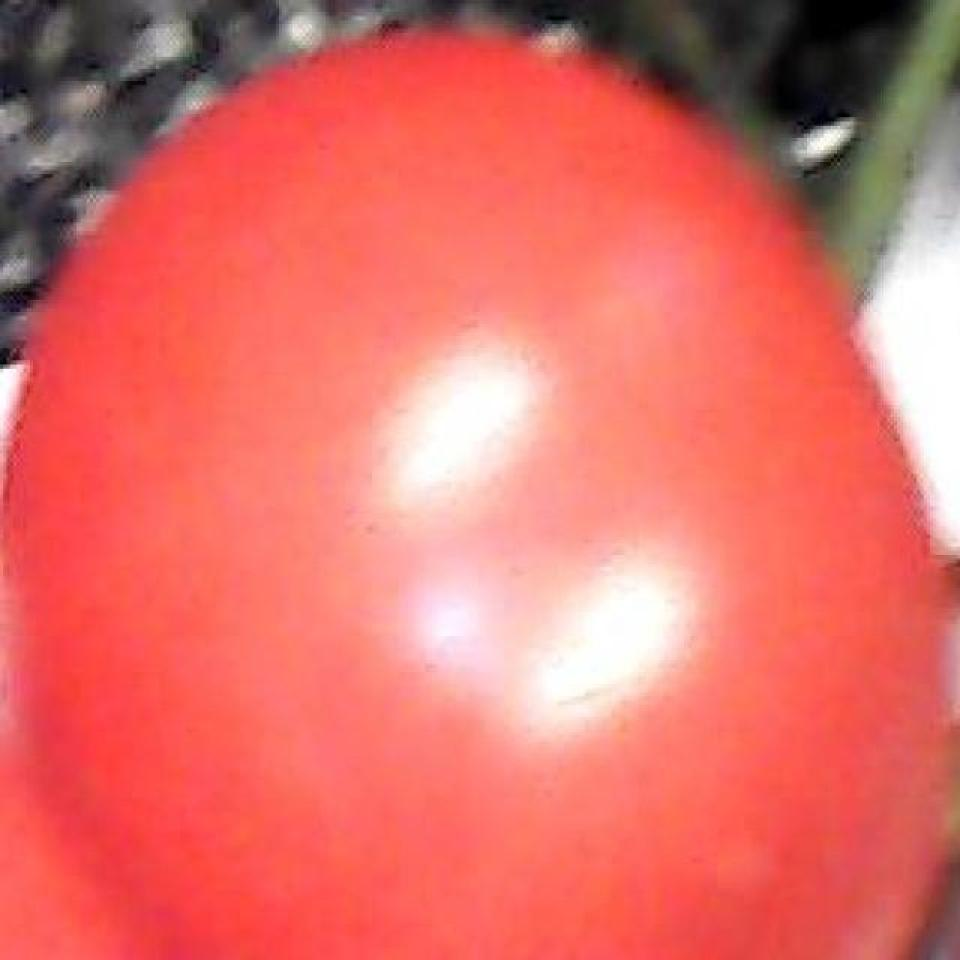Healthy: (12, 6, 941, 960)
